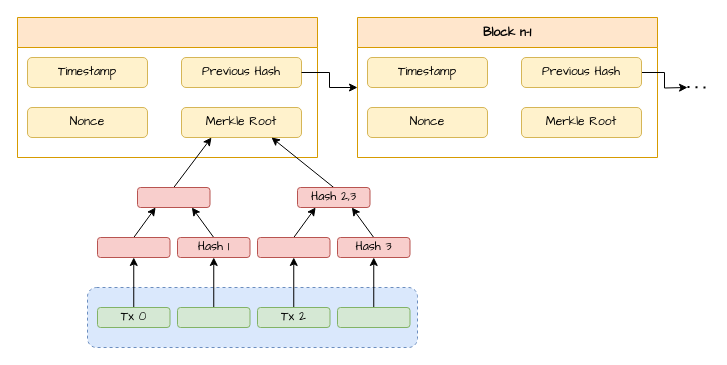
Some shapes in this 727 by 365 pixel diagram are drawn without their labels. Each missing label, with the box of its shape:
Block n: (16, 16, 318, 158)
Hash 0: (96, 236, 170, 258)
Hash 0,1: (136, 186, 210, 208)
Hash 2: (256, 236, 330, 258)
Transactions: (86, 286, 418, 348)
Tx 1: (176, 306, 250, 328)
Tx 3: (336, 306, 410, 328)
